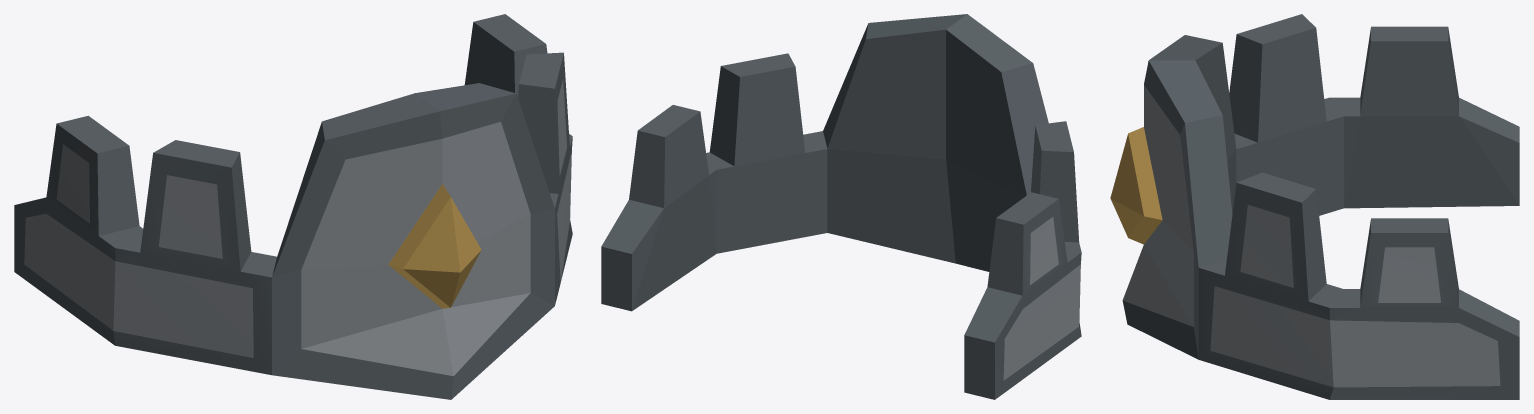
Rendered from Chr_HelmetAttachment_08_Static.fbx.
3 renders of one model, left to right at view 1: azimuth 30°, elevation 25°; view 2: azimuth 150°, elevation 25°; view 3: azimuth 270°, elevation 25°, orthographic. The views are drawn at different scales.
Parts seen in each view (by area): view 1: Chr_HelmetAttachment_08_Static; view 2: Chr_HelmetAttachment_08_Static; view 3: Chr_HelmetAttachment_08_Static.
Boxes of the visible parts, bbox=[...] form: Chr_HelmetAttachment_08_Static: bbox=[14, 14, 572, 399]; Chr_HelmetAttachment_08_Static: bbox=[601, 14, 1081, 399]; Chr_HelmetAttachment_08_Static: bbox=[1110, 14, 1519, 399].
Bounding box in the file's own units: 0.2793 × 0.1635 × 0.2297.
